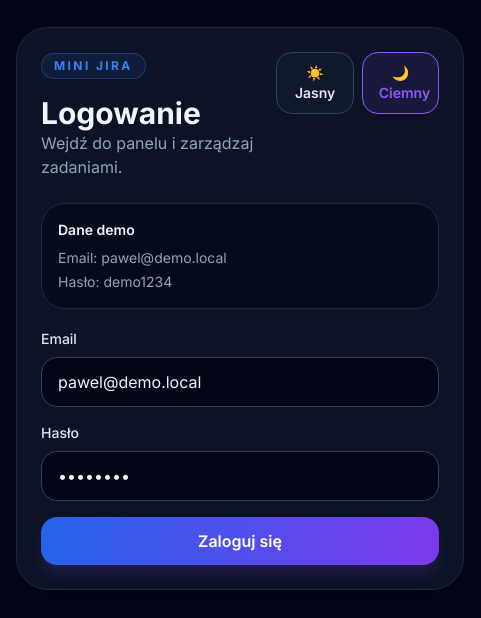
Test case: LoginScreen › shows an error when credentials are rejected
Click the button "Zaloguj się": (240, 540) 41,516 -> 439,564
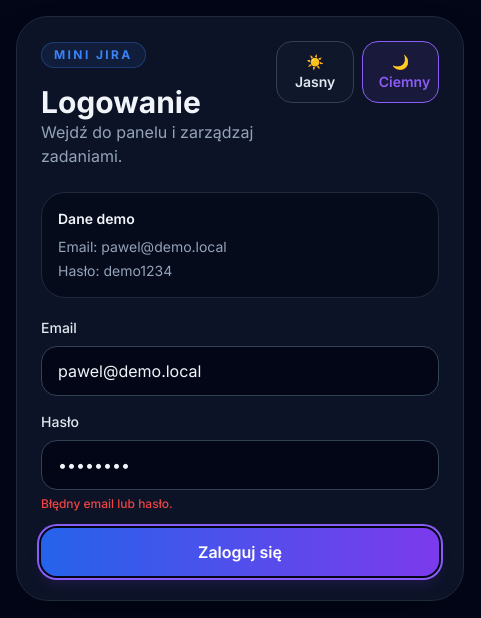
Expected: the text "Błędny email lub hasło." is shown, 41,496 -> 172,510
